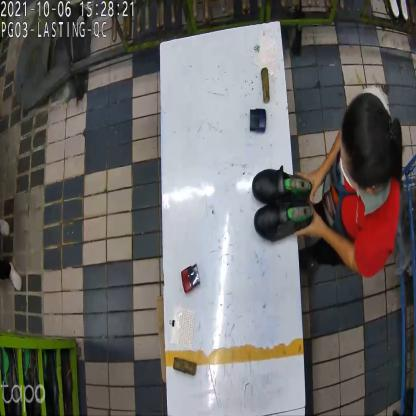shoes: (251, 165, 314, 243)
stamp: (182, 260, 201, 298), (249, 104, 266, 138)
